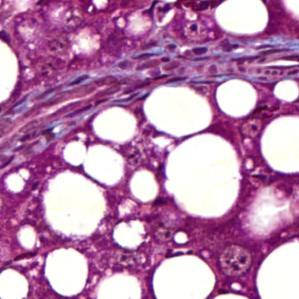steatosis: (164, 133, 250, 216), (142, 80, 213, 138), (218, 77, 259, 118)
